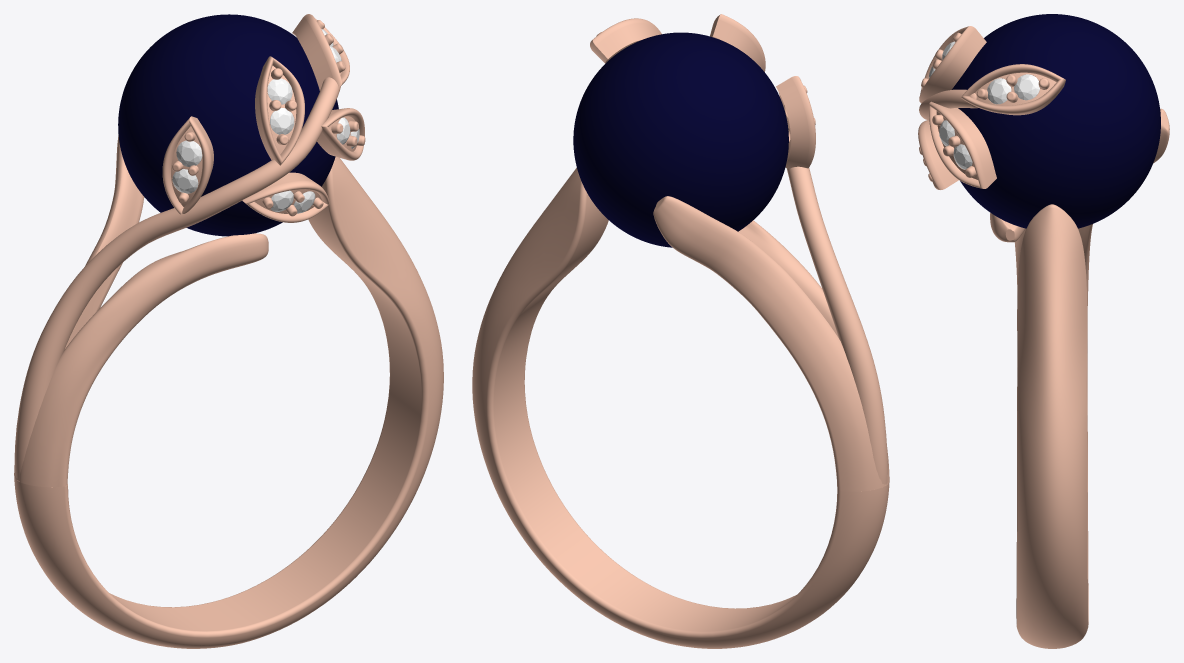
The model's file is ring.glb.
The picture shows the model from 3 angles, left to right: view 1: azimuth 30°, elevation 25°; view 2: azimuth 150°, elevation 25°; view 3: azimuth 270°, elevation 25°; orthographic projection. The views are drawn at different scales.
Visible parts, largest first — view 1: Dark_Pearl; view 2: Dark_Pearl; view 3: Dark_Pearl, uploads_files_2517263_22gemstones005009, uploads_files_2517263_22gemstones005008.
Boxes of the visible parts, <box> form: Dark_Pearl: <box>14,14,443,648</box>; Dark_Pearl: <box>472,14,889,648</box>; Dark_Pearl: <box>918,14,1169,648</box>; uploads_files_2517263_22gemstones005009: <box>1014,74,1039,100</box>; uploads_files_2517263_22gemstones005008: <box>987,78,1011,104</box>.
Size of the model in its own units: 2.24 by 3.1 by 1.17.
